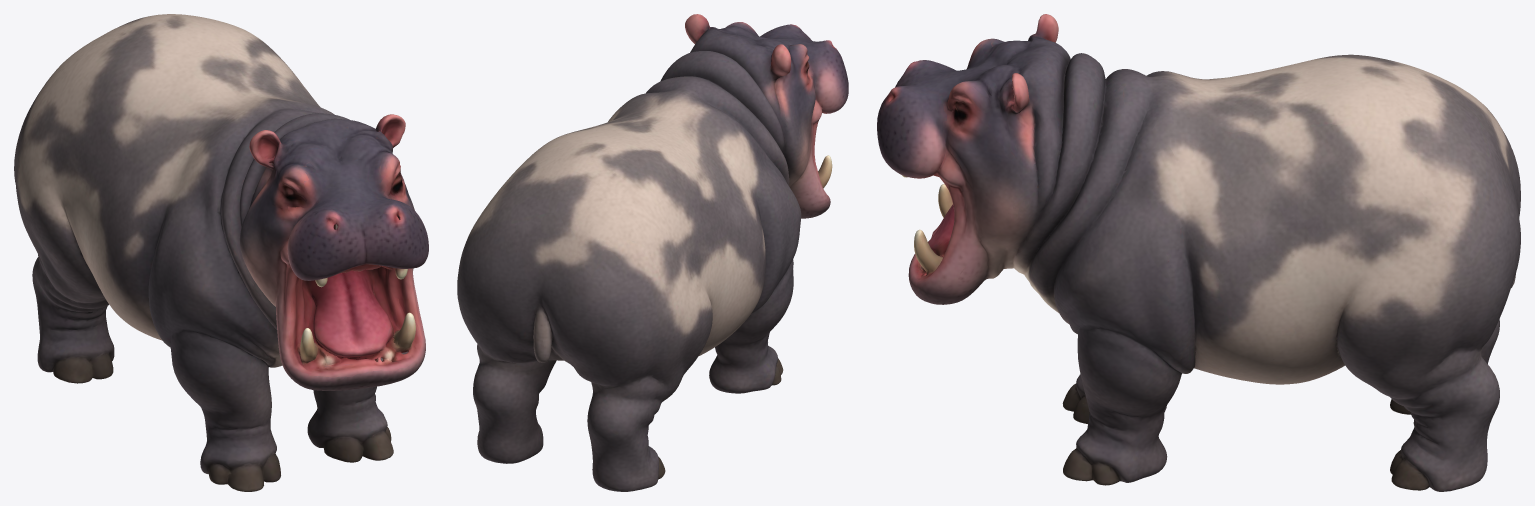
The model's file is generation_tapir_2.glb.
3 renders of one model, left to right at view 1: azimuth 30°, elevation 25°; view 2: azimuth 150°, elevation 25°; view 3: azimuth 270°, elevation 25°, orthographic. The views are drawn at different scales.
Parts seen in each view (by area): view 1: geometry_0; view 2: geometry_0; view 3: geometry_0.
Boxes of the visible parts, <box> form: geometry_0: <box>14,14,428,491</box>; geometry_0: <box>457,14,848,491</box>; geometry_0: <box>877,14,1520,491</box>.
Size of the model in its own units: 0.5081 by 0.6747 by 1.
1 material, 1 textured.
